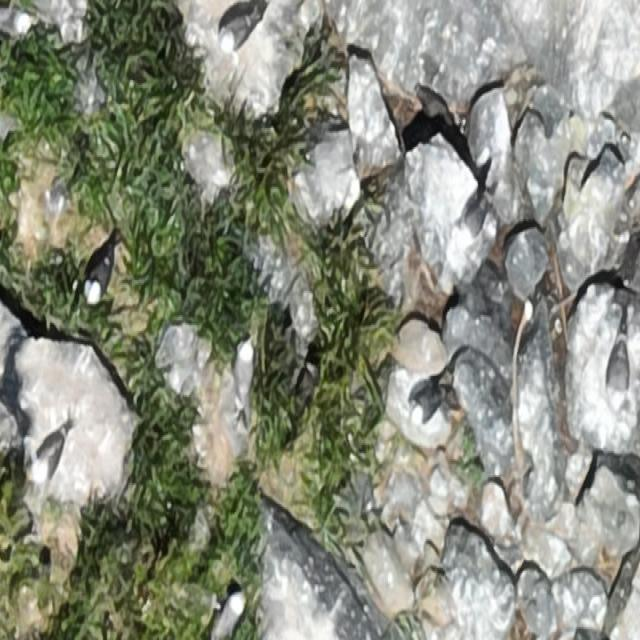umineko: (82, 235, 119, 306), (32, 422, 72, 484), (607, 321, 630, 415), (458, 194, 492, 251), (217, 10, 259, 51), (410, 384, 445, 424), (215, 594, 242, 636), (235, 345, 254, 400), (1, 5, 31, 35)
